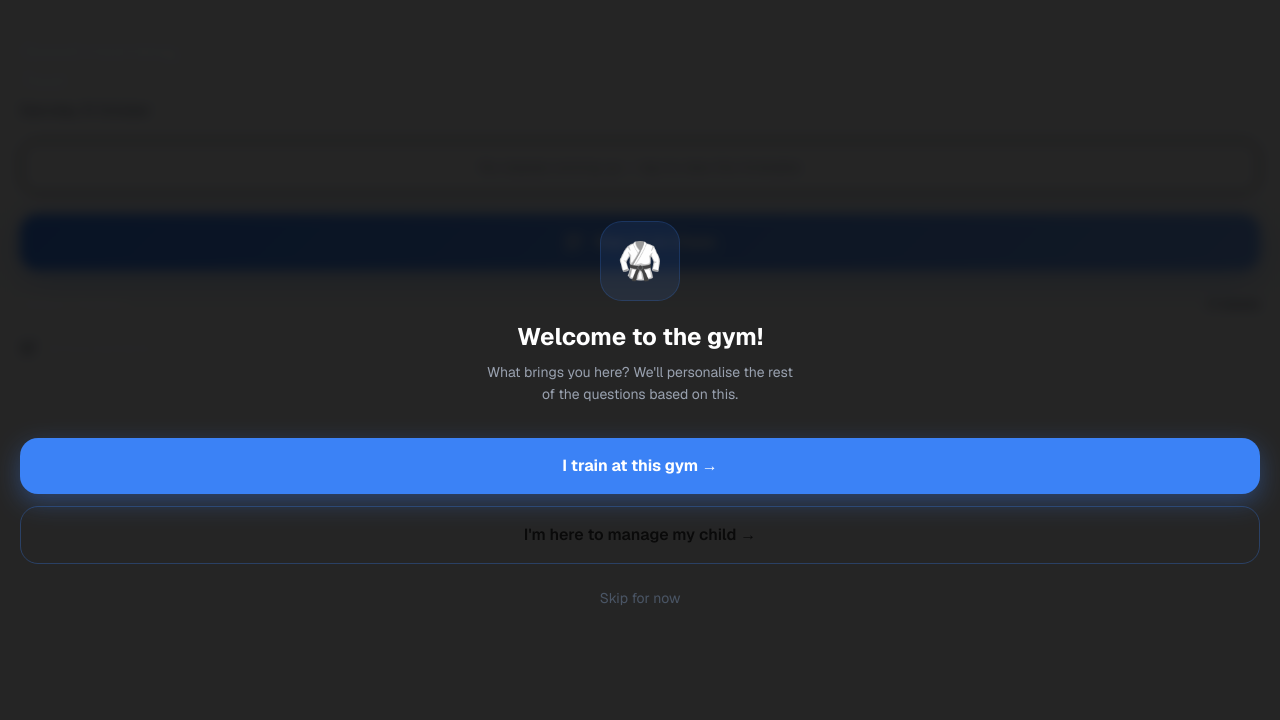
Test: Onboarding parent-only fork (US-1) › parent-only path jumps to Step 5 (kids) and never reaches belt / style / heard steps
Click the button with test id "onboarding-i-parent": (640, 535) [20,506,1260,564]
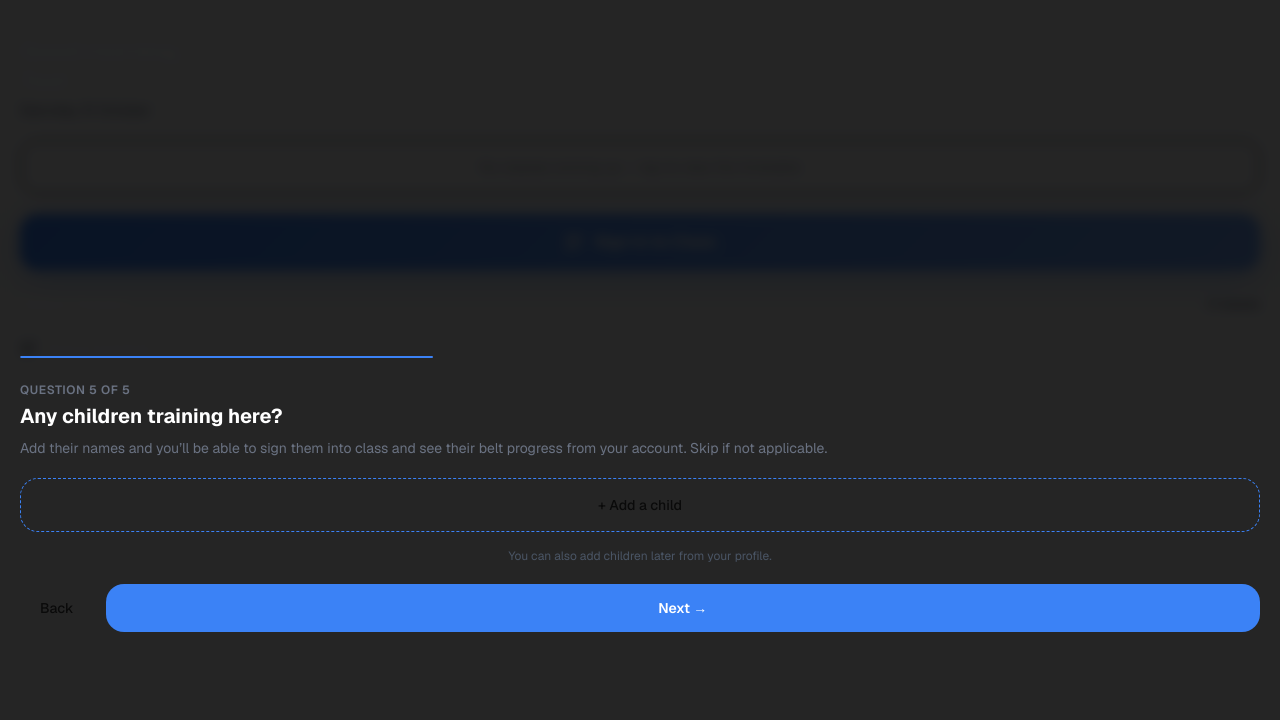
Expected: the heading "Any children training here?" is shown, [20,403,283,429]
